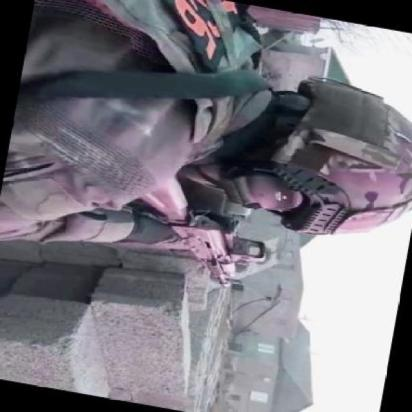Gun: (98, 155, 285, 297)
